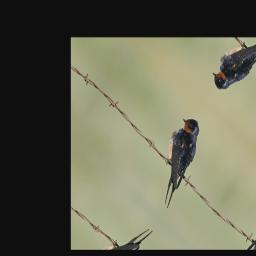Swallow: (140, 110, 216, 210)
